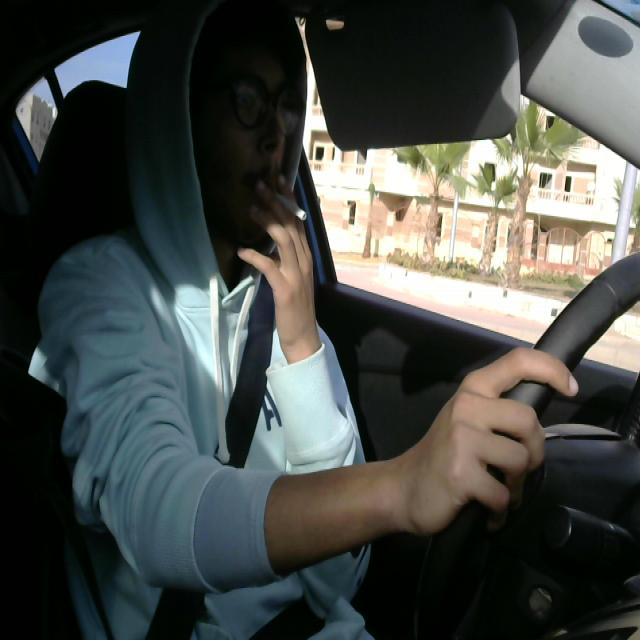smoking: (258, 175, 315, 237)
